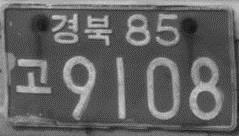0: (144, 55, 181, 120)
1: (113, 54, 128, 121)
5: (154, 12, 179, 46)
8: (187, 55, 223, 120), (125, 12, 151, 46)
9: (61, 54, 97, 120)
경북_O: (49, 13, 113, 47)
고: (14, 56, 52, 96)
